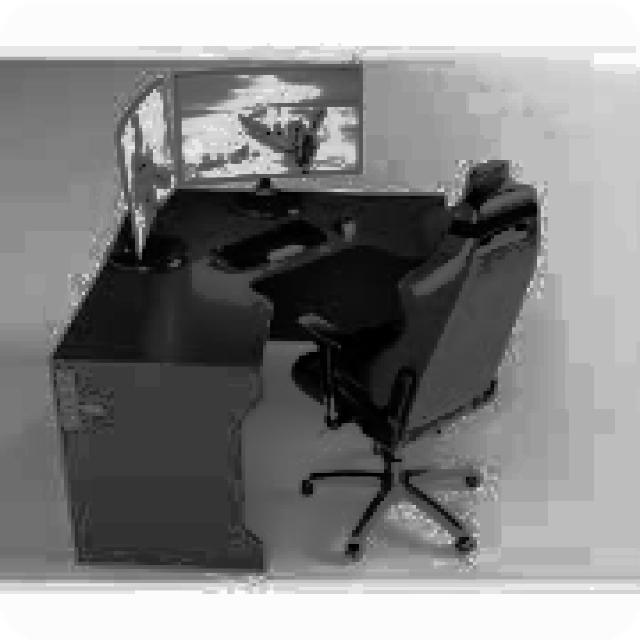book: (288, 178, 537, 562)
table: (47, 181, 444, 569)
